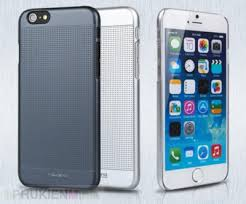iphone6: (155, 3, 230, 192)
